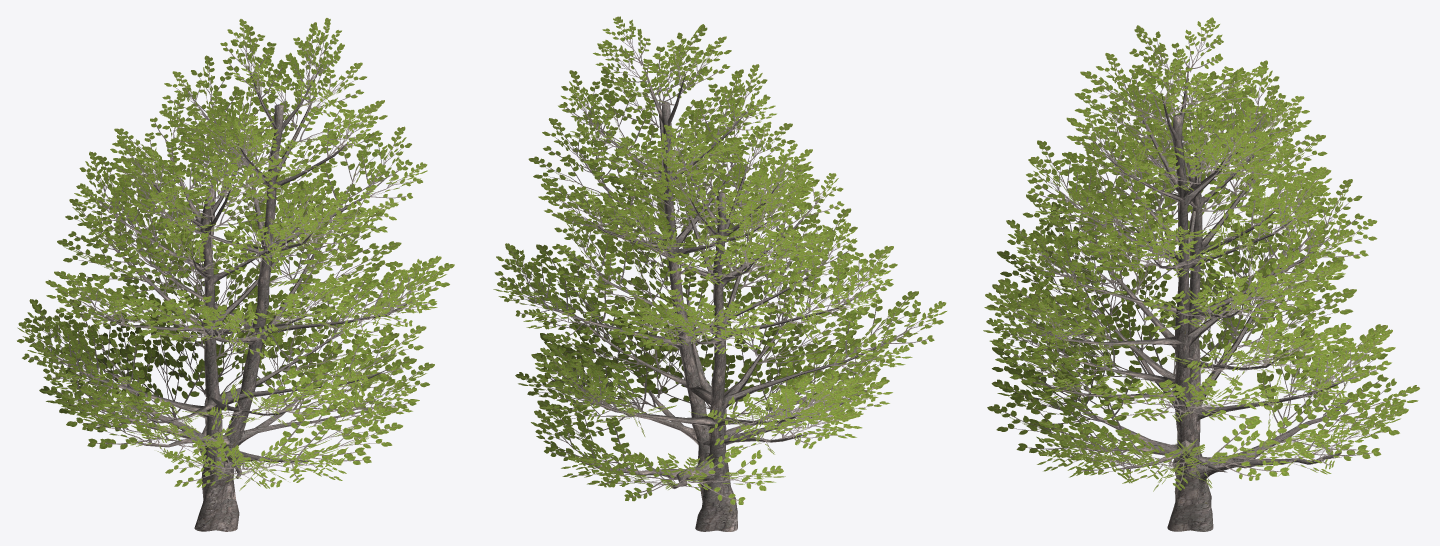
Rendered from elm1.glb.
The picture shows the model from 3 angles, left to right: view 1: azimuth 30°, elevation 25°; view 2: azimuth 150°, elevation 25°; view 3: azimuth 270°, elevation 25°; orthographic projection. The views are drawn at different scales.
Parts seen in each view (by area): view 1: Leaves, Trunk; view 2: Leaves, Trunk; view 3: Leaves, Trunk.
Part boxes in pixels (left/top/right/bottom): Leaves: left=17, top=18, right=454, bottom=490; Trunk: left=56, top=64, right=411, bottom=531; Leaves: left=493, top=16, right=946, bottom=504; Trunk: left=529, top=52, right=906, bottom=531; Leaves: left=983, top=17, right=1419, bottom=491; Trunk: left=1027, top=55, right=1356, bottom=531.
Size of the model in its own units: 13.01 by 16.53 by 12.68.
2 materials, 2 textured.
